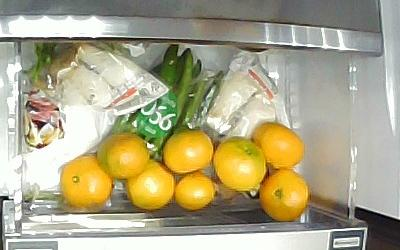tangerine: (214, 135, 267, 193), (60, 155, 113, 209), (253, 121, 306, 170), (259, 171, 308, 221), (126, 160, 174, 210), (99, 134, 149, 180), (163, 129, 213, 174), (173, 171, 216, 212)
